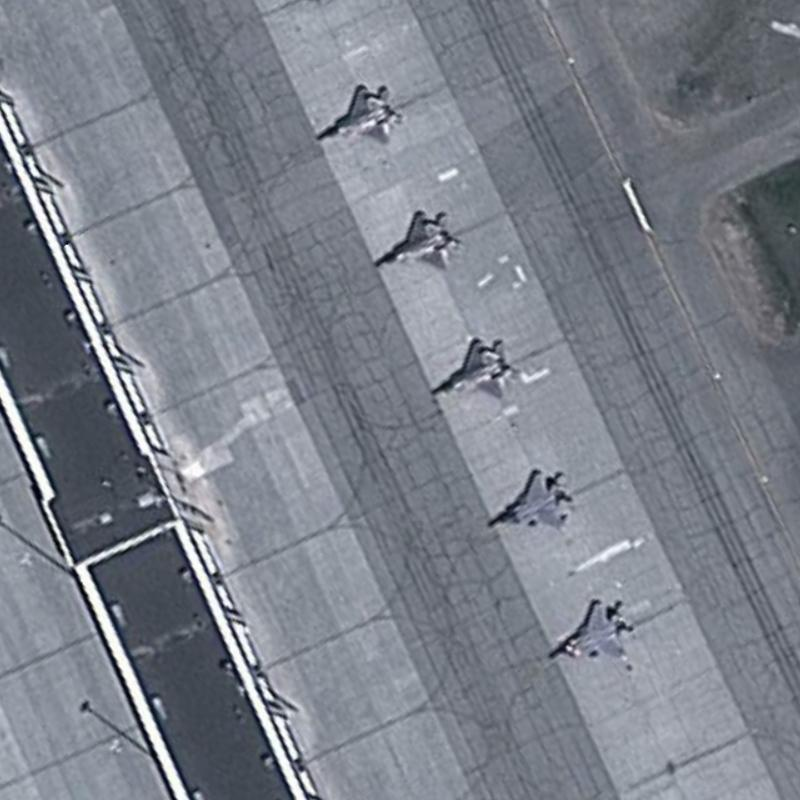A13: (481, 459, 578, 535), (542, 595, 642, 667)
A15: (421, 327, 524, 406), (365, 201, 467, 276), (311, 77, 410, 149)
